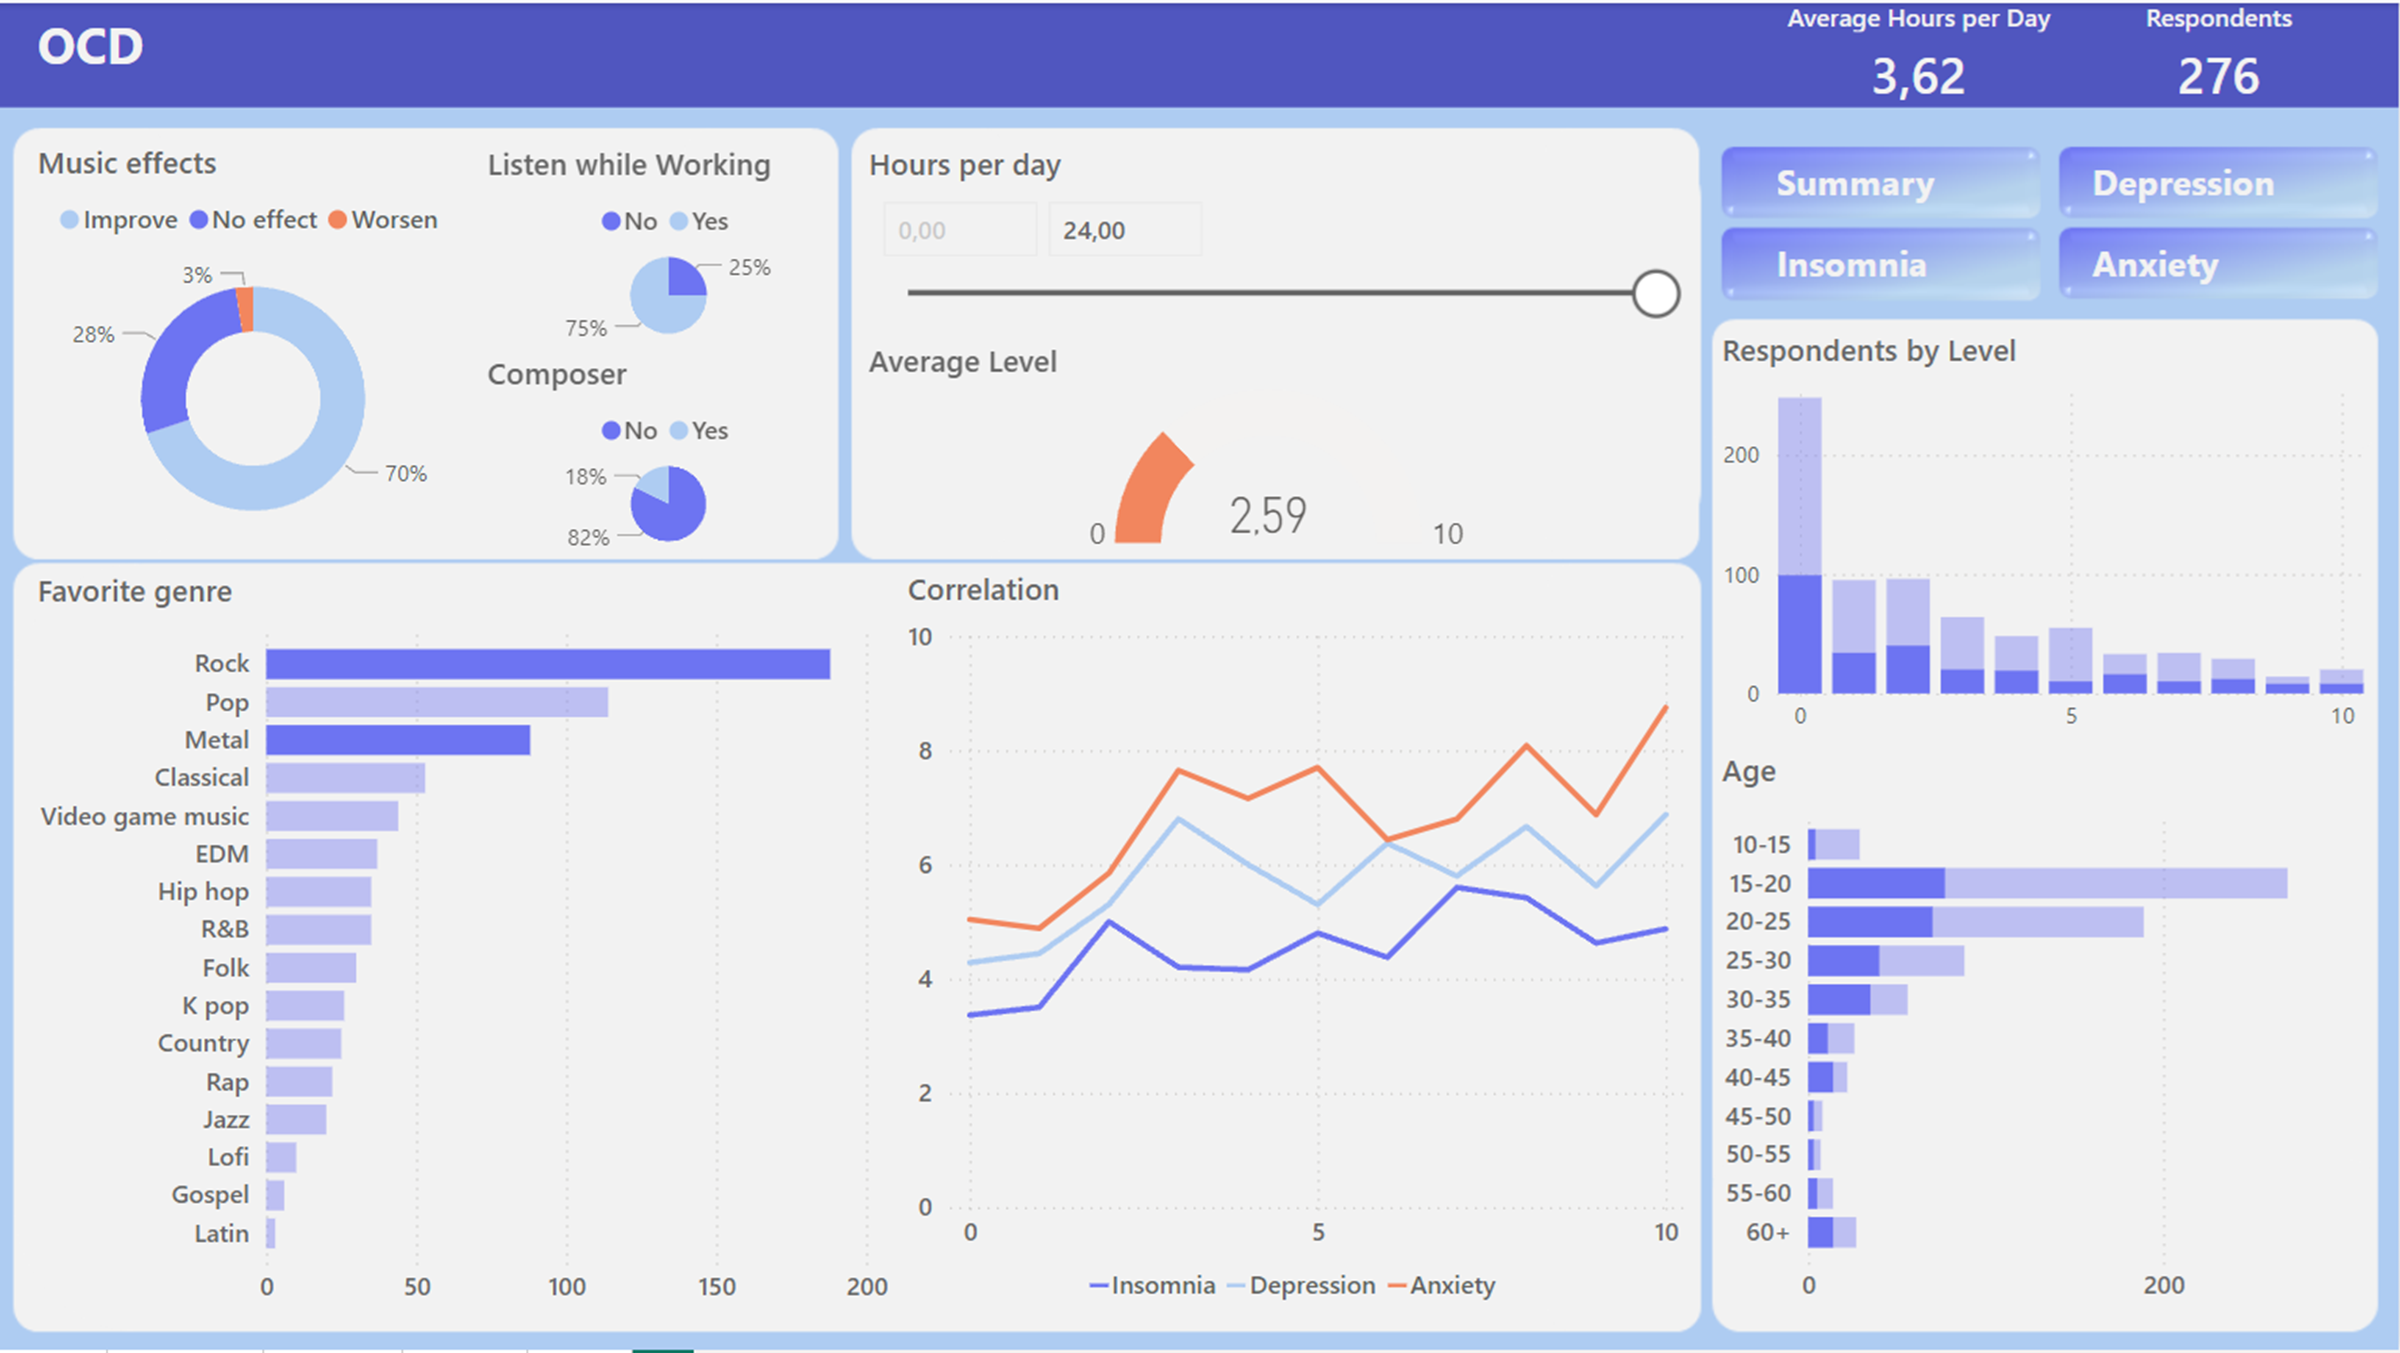

The page's visual inventory and layout, read from the dashboard file:
{"tool":"powerbi","page":{"name":"OCD","canvas":[1280,720],"ordinal":4},"visuals":[{"type":"card","title":"Respondents","fields":{"Values":["Count(mxmh_survey_results.id)"]},"box":[1104,0,160,64],"z":0},{"type":"textbox","box":[15.9,0,159.7,47.6],"z":1000},{"type":"donutChart","title":"Music effects","fields":{"Category":["mxmh_survey_results.Music effects"],"Y":["Count(mxmh_survey_results.id)"]},"box":[15.9,76.1,240,224],"z":2000},{"type":"clusteredBarChart","title":"Favorite genre","fields":{"Category":["mxmh_survey_results.Fav genre"],"Y":["Count(mxmh_survey_results.id)"]},"box":[16,304,464,400],"z":3000},{"type":"card","title":"Average Hours per Day","fields":{"Values":["Avg(mxmh_survey_results.Hours per day)"]},"box":[944,0,160,64],"z":4000},{"type":"slicer","title":"Hours per day","fields":{"Values":["mxmh_survey_results.Hours per day"]},"box":[459.3,76.3,445.1,105.5],"z":5000},{"type":"clusteredBarChart","title":"Age","fields":{"Category":["mxmh_survey_results.Age (groups)"],"Y":["Count(mxmh_survey_results.id)"]},"box":[914,399.9,352,304],"z":6000},{"type":"pieChart","title":"Listen while Working","fields":{"Category":["mxmh_survey_results.While working"],"Y":["Count(mxmh_survey_results.id)"]},"box":[255.9,76.5,203.1,112.1],"z":7000},{"type":"pieChart","title":"Composer","fields":{"Category":["mxmh_survey_results.Composer"],"Y":["Count(mxmh_survey_results.id)"]},"box":[255.9,188.6,203.1,111.1],"z":8000},{"type":"columnChart","title":"Respondents by Level","fields":{"Category":["mxmh_survey_results.OCD"],"Y":["Count(mxmh_survey_results.id)"]},"box":[914,175.9,352,224],"z":9000},{"type":"gauge","title":"Average Level","fields":{"Y":["Avg(mxmh_survey_results.OCD)"],"MinValue":["Min(mxmh_survey_results.OCD)"],"MaxValue":["Max(mxmh_survey_results.OCD)1"]},"box":[459.3,181.8,445.1,117.9],"z":10000},{"type":"textbox","box":[943.6,122.7,132.2,36],"z":11000},{"type":"textbox","box":[1111.8,79.3,143.9,38.1],"z":12000},{"type":"textbox","box":[1111.8,122.7,143.9,36],"z":13000},{"type":"textbox","box":[943.6,79.3,132.2,38.1],"z":14000},{"type":"lineChart","title":"Correlation","fields":{"Y":["Avg(mxmh_survey_results.Insomnia)","Avg(mxmh_survey_results.Depression)","Avg(mxmh_survey_results.Anxiety)"],"Category":["mxmh_survey_results.OCD"]},"box":[480.3,303.6,424.2,400.9],"z":15000},{"type":"actionButton","box":[923.4,77.6,167,40.3],"z":16000},{"type":"actionButton","box":[923.4,118.9,167,40.3],"z":17000},{"type":"actionButton","box":[1100.2,77.6,167,40.3],"z":18000},{"type":"actionButton","box":[1098.3,119.8,167,40.3],"z":19000}]}

Visuals, with their boxes in screenshot pixels (x1, y1, x2, y2), scaled from the page's 1280x720 canvas onto the 2400x1353 screenshot:
"Respondents" card: {"left": 2070, "top": 0, "right": 2370, "bottom": 120}
textbox: {"left": 30, "top": 0, "right": 329, "bottom": 89}
"Music effects" donutChart: {"left": 30, "top": 143, "right": 480, "bottom": 564}
"Favorite genre" clusteredBarChart: {"left": 30, "top": 571, "right": 900, "bottom": 1323}
"Average Hours per Day" card: {"left": 1770, "top": 0, "right": 2070, "bottom": 120}
"Hours per day" slicer: {"left": 861, "top": 143, "right": 1696, "bottom": 342}
"Age" clusteredBarChart: {"left": 1714, "top": 751, "right": 2374, "bottom": 1323}
"Listen while Working" pieChart: {"left": 480, "top": 144, "right": 861, "bottom": 354}
"Composer" pieChart: {"left": 480, "top": 354, "right": 861, "bottom": 563}
"Respondents by Level" columnChart: {"left": 1714, "top": 331, "right": 2374, "bottom": 751}
"Average Level" gauge: {"left": 861, "top": 342, "right": 1696, "bottom": 563}
textbox: {"left": 1769, "top": 231, "right": 2017, "bottom": 298}
textbox: {"left": 2085, "top": 149, "right": 2354, "bottom": 221}
textbox: {"left": 2085, "top": 231, "right": 2354, "bottom": 298}
textbox: {"left": 1769, "top": 149, "right": 2017, "bottom": 221}
"Correlation" lineChart: {"left": 901, "top": 571, "right": 1696, "bottom": 1324}
actionButton: {"left": 1731, "top": 146, "right": 2045, "bottom": 222}
actionButton: {"left": 1731, "top": 223, "right": 2045, "bottom": 299}
actionButton: {"left": 2063, "top": 146, "right": 2376, "bottom": 222}
actionButton: {"left": 2059, "top": 225, "right": 2372, "bottom": 301}
